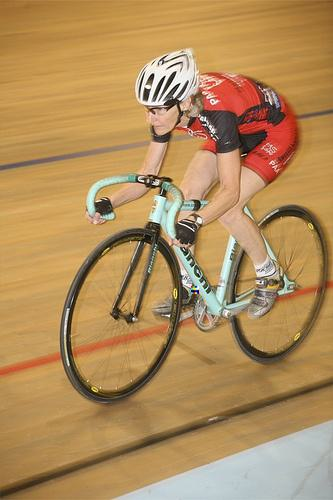car: (60, 173, 330, 408)
person: (83, 48, 301, 320)
person/foot: (246, 265, 285, 319), (152, 286, 198, 317)
person/hand: (166, 214, 202, 247), (85, 200, 114, 224)
person/head: (135, 56, 195, 135)
